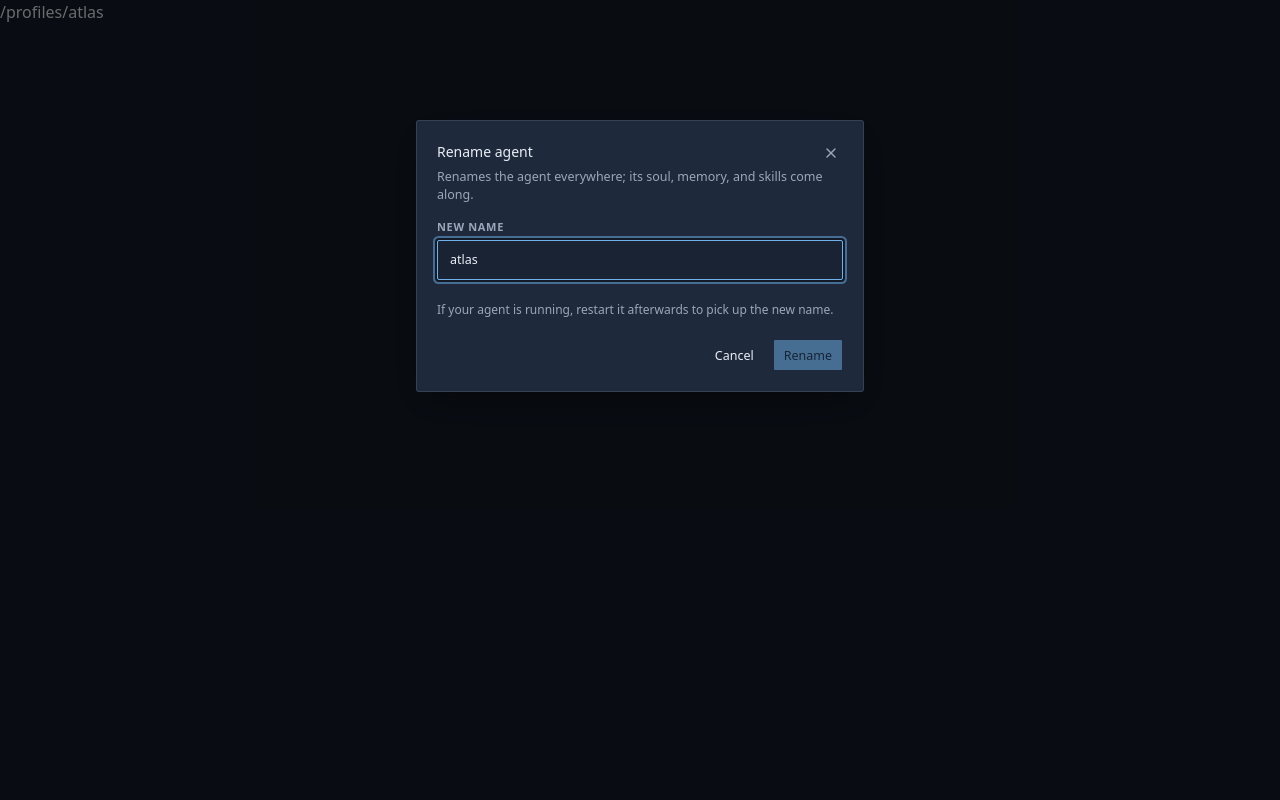
it: RenameAgentDialog › blocks the reserved built-in default name before submit
This screenshot has width=1280, height=800.
Replace the text in the field labelled "New name" with "Default" at (640, 260), box [437,240,843,280]
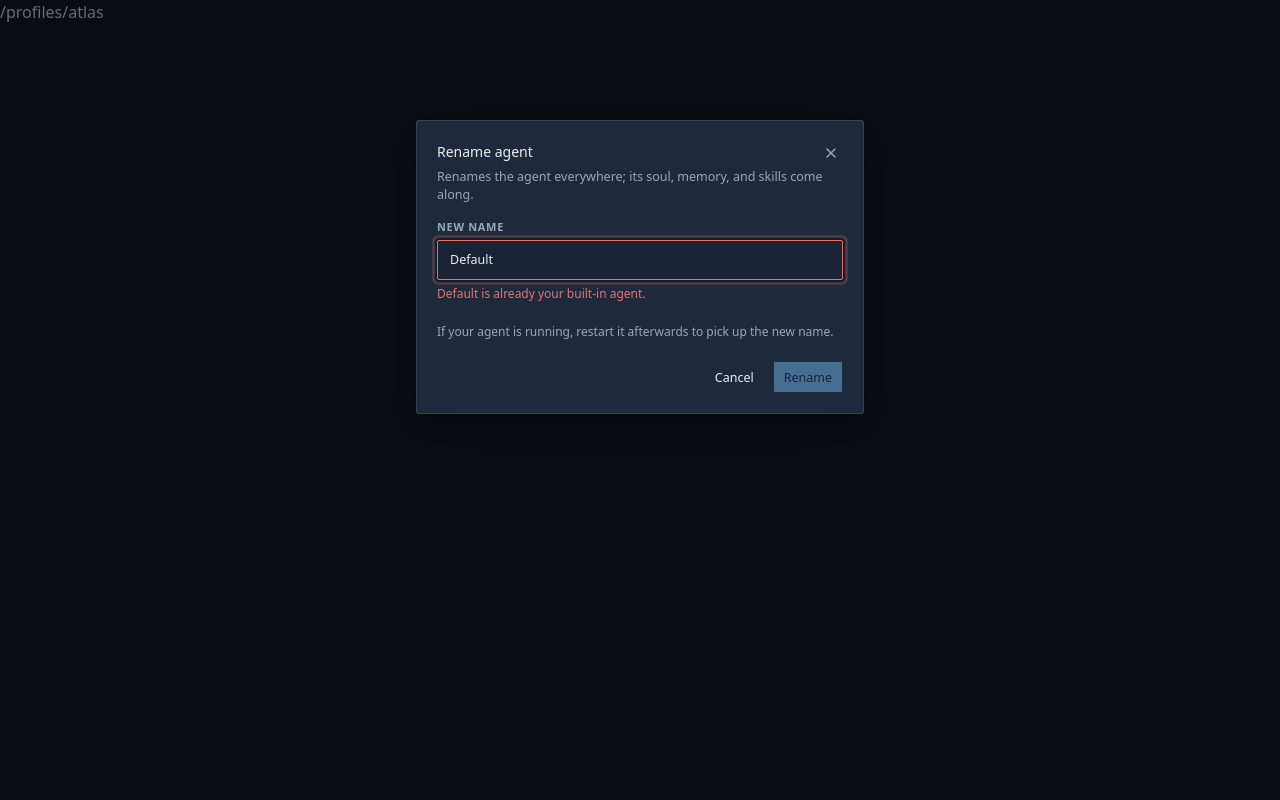
Expected: the button "Rename" is disabled, [773,362,843,394]
Expected: the message shows "built-in agent", [437,285,646,302]
